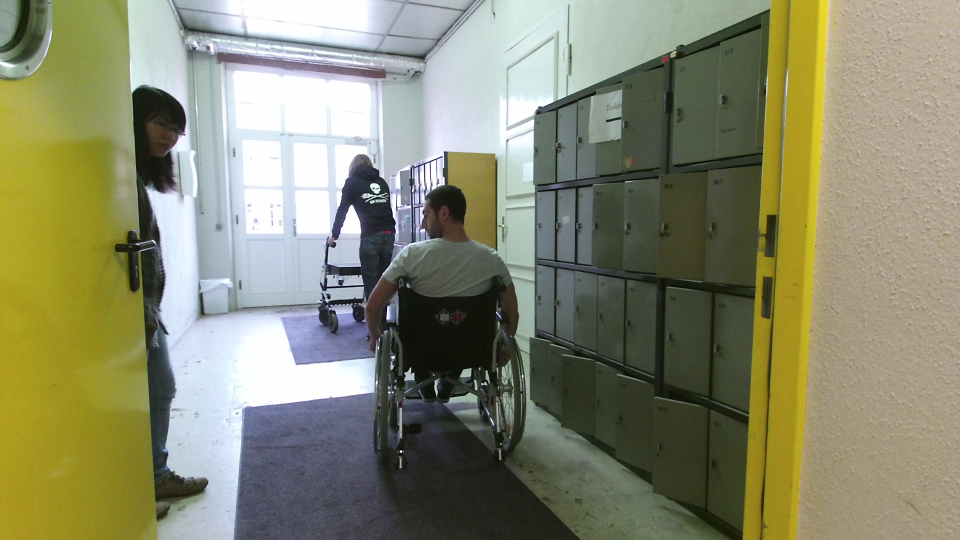wheelchair: (358, 181, 530, 473)
